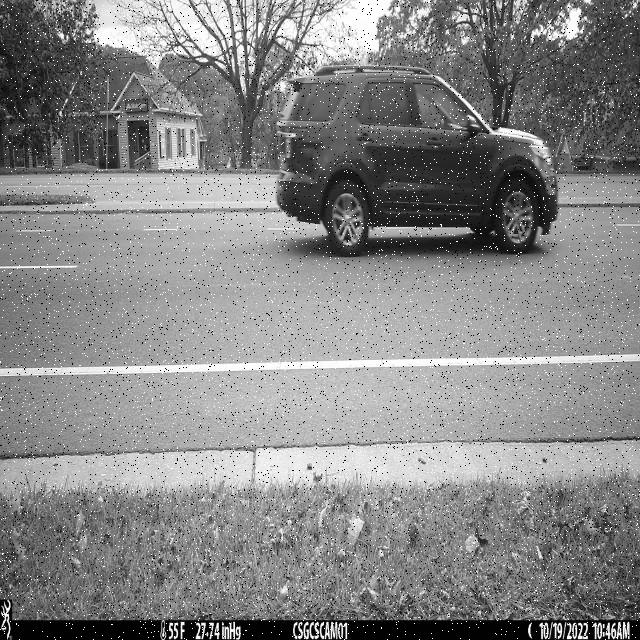SUV: (277, 64, 559, 257)
